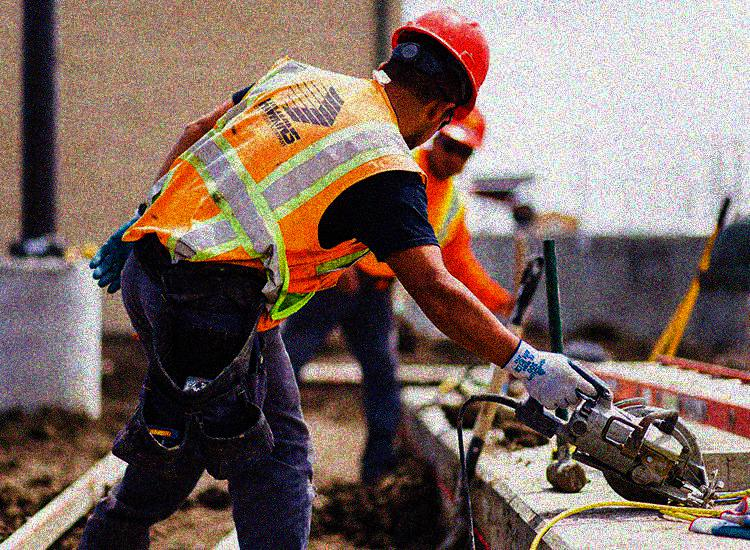helmet: (376, 6, 490, 153), (432, 103, 488, 179)
